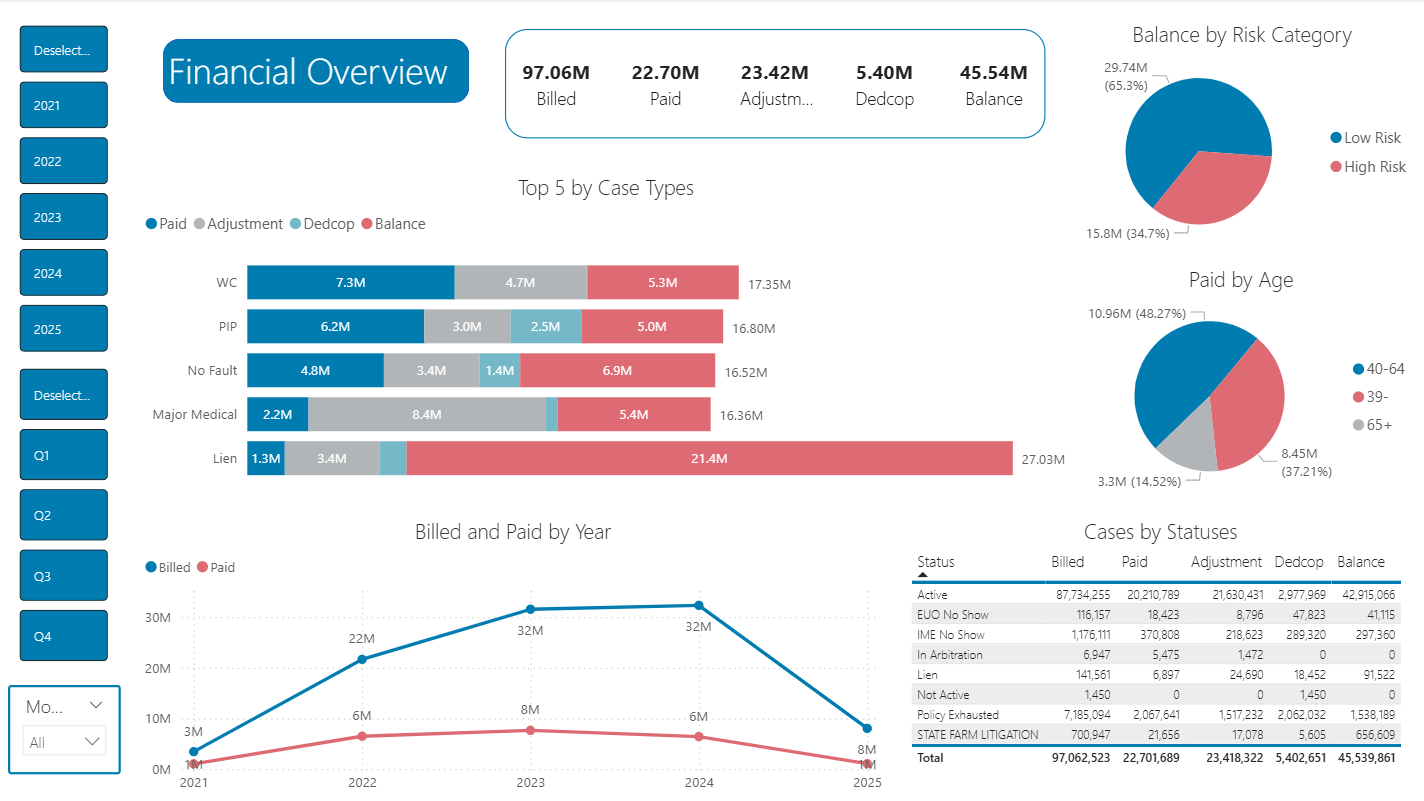

Layout of this report page (visuals, bound fields, positions):
{"tool":"powerbi","page":{"name":"Financial","canvas":[1280,720],"ordinal":0},"visuals":[{"type":"cardVisual","title":"Total","fields":{"Data":["Sum(Fact_Bill_Payments.billed)","Sum(Fact_Bill_Payments.paid)","Sum(Fact_Bill_Payments.adjustment)","Sum(Fact_Bill_Payments.dedcop)","Sum(Fact_Bill_Payments.balance)"]},"box":[436.7,9.7,520.4,132.3],"z":0},{"type":"advancedSlicerVisual","fields":{"Values":["Dim_Date.Year"]},"box":[9.7,108.9,90.5,286.9],"z":1000},{"type":"barChart","title":"Top 5 by Case Types","fields":{"Y":["Sum(Fact_Bill_Payments.paid)","Sum(Fact_Bill_Payments.adjustment)","Sum(Fact_Bill_Payments.dedcop)","Sum(Fact_Bill_Payments.balance)"],"Category":["Fact_Bill_Payments.case_type"]},"box":[126.4,155.6,836.5,292.8],"z":2000},{"type":"pieChart","title":"Balance by Risk Category","fields":{"Y":["Sum(Fact_Bill_Payments.balance)"],"Category":["Fact_Bill_Payments.Risk Category"]},"box":[958.1,18.5,312.2,210.1],"z":3000},{"type":"tableEx","title":"Cases by Statuses","fields":{"Values":["Fact_Cases.Dim_Statuses.name","Sum(Fact_Bill_Payments.billed)","Sum(Fact_Bill_Payments.paid)","Sum(Fact_Bill_Payments.adjustment)","Sum(Fact_Bill_Payments.dedcop)","Sum(Fact_Bill_Payments.balance)"]},"box":[812.2,464,458.1,255.8],"z":4000},{"type":"lineChart","fields":{"Category":["Dim_Date.Year"],"Y":["Sum(Fact_Bill_Payments.billed)","Sum(Fact_Bill_Payments.paid)"]},"box":[126.4,464,670.2,255.8],"z":5000},{"type":"advancedSlicerVisual","fields":{"Values":["Dim_Date.Quarter"]},"box":[9.7,395.9,90.5,243.2],"z":6000},{"type":"slicer","fields":{"Values":["Dim_Date.Month Name"]},"box":[4.9,639,100.2,80.7],"z":7000},{"type":"pieChart","title":"Paid by Age","fields":{"Y":["Sum(Fact_Bill_Payments.paid)"],"Category":["Fact_Cases.age_group"]},"box":[957.1,238.3,312.2,210.1],"z":8000},{"type":"shape","box":[9.7,18.5,412.4,74.9],"z":10000},{"type":"textbox","box":[9.7,18.5,412.4,81.7],"z":11000}]}

Visuals, with their boxes in screenshot pixels (x1, y1, x2, y2), scaled from the page's 1280x720 canvas onto the 1424x801 screenshot:
"Total" cardVisual: {"left": 486, "top": 11, "right": 1065, "bottom": 158}
advancedSlicerVisual - Dim_Date.Year: {"left": 11, "top": 121, "right": 111, "bottom": 440}
"Top 5 by Case Types" barChart: {"left": 141, "top": 173, "right": 1071, "bottom": 499}
"Balance by Risk Category" pieChart: {"left": 1066, "top": 21, "right": 1413, "bottom": 254}
"Cases by Statuses" tableEx: {"left": 904, "top": 516, "right": 1413, "bottom": 800}
lineChart - Dim_Date.Year x Sum(Fact_Bill_Payments.billed): {"left": 141, "top": 516, "right": 886, "bottom": 800}
advancedSlicerVisual - Dim_Date.Quarter: {"left": 11, "top": 440, "right": 111, "bottom": 711}
slicer - Dim_Date.Month Name: {"left": 5, "top": 711, "right": 117, "bottom": 800}
"Paid by Age" pieChart: {"left": 1065, "top": 265, "right": 1412, "bottom": 499}
shape: {"left": 11, "top": 21, "right": 470, "bottom": 104}
textbox: {"left": 11, "top": 21, "right": 470, "bottom": 111}
